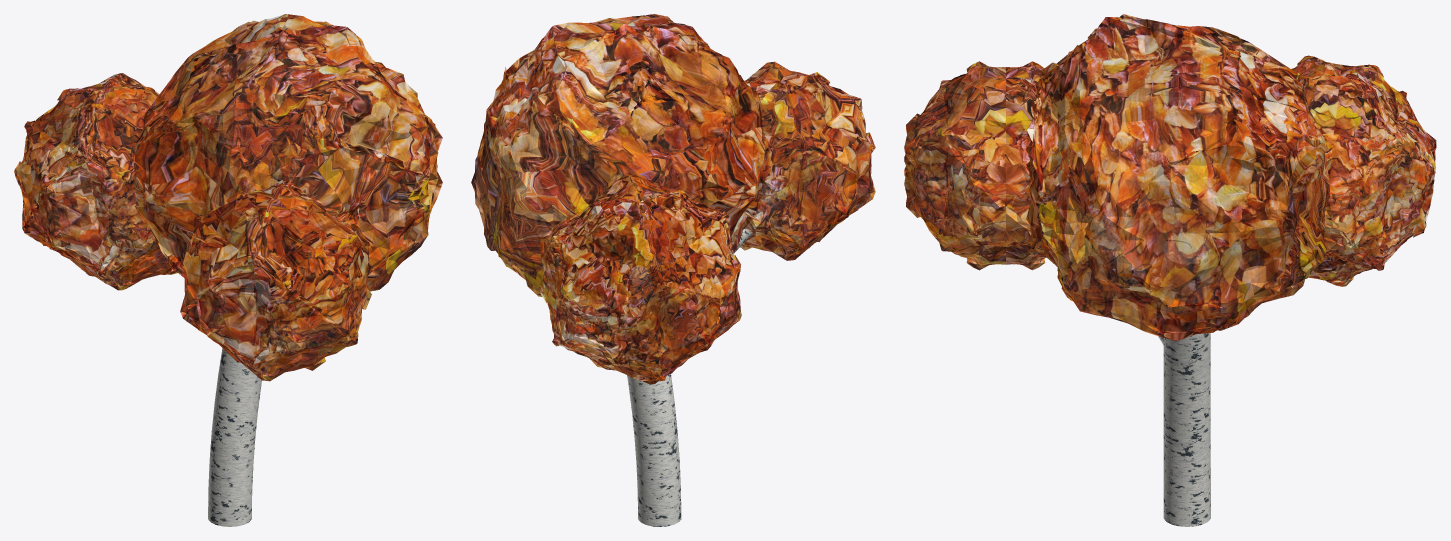
Rendered from baum2.DAE.
3 renders of one model, left to right at view 1: azimuth 30°, elevation 25°; view 2: azimuth 150°, elevation 25°; view 3: azimuth 270°, elevation 25°, orthographic. The views are drawn at different scales.
Visible parts, largest first — view 1: Geosph_re003, Geosph_re002, Geosph_re001, Zylinder001, Zylinder002; view 2: Geosph_re003, Geosph_re002, Geosph_re001, Zylinder001, Zylinder002, Zylinder003; view 3: Geosph_re003, Geosph_re002, Geosph_re001, Zylinder001, Zylinder002.
Part boxes in pixels (bbox=[...]): Geosph_re003: bbox=[133, 14, 442, 302]; Geosph_re002: bbox=[14, 73, 226, 290]; Geosph_re001: bbox=[180, 180, 371, 381]; Zylinder001: bbox=[208, 348, 261, 526]; Zylinder002: bbox=[238, 280, 270, 310]; Geosph_re003: bbox=[471, 14, 768, 296]; Geosph_re002: bbox=[539, 173, 741, 384]; Geosph_re001: bbox=[687, 61, 875, 260]; Zylinder001: bbox=[627, 374, 681, 526]; Zylinder002: bbox=[728, 178, 788, 253]; Zylinder003: bbox=[630, 265, 653, 303]; Geosph_re003: bbox=[1026, 14, 1335, 341]; Geosph_re002: bbox=[1215, 55, 1436, 286]; Geosph_re001: bbox=[904, 61, 1107, 270]; Zylinder001: bbox=[1163, 232, 1210, 526]; Zylinder002: bbox=[1020, 176, 1164, 344].
Bounding box in the file's own units: 59.65 × 82.09 × 88.08.
